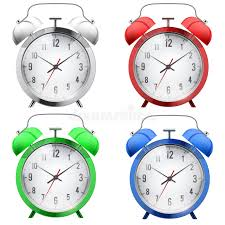alarm_clock: (11, 110, 99, 218), (11, 110, 98, 218), (11, 116, 99, 218)
